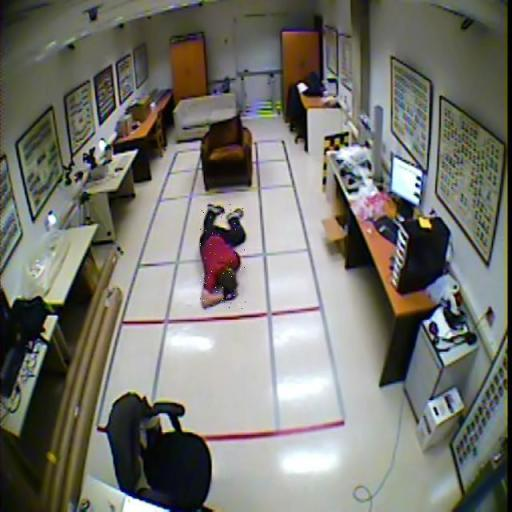Fall: (199, 203, 246, 310)
